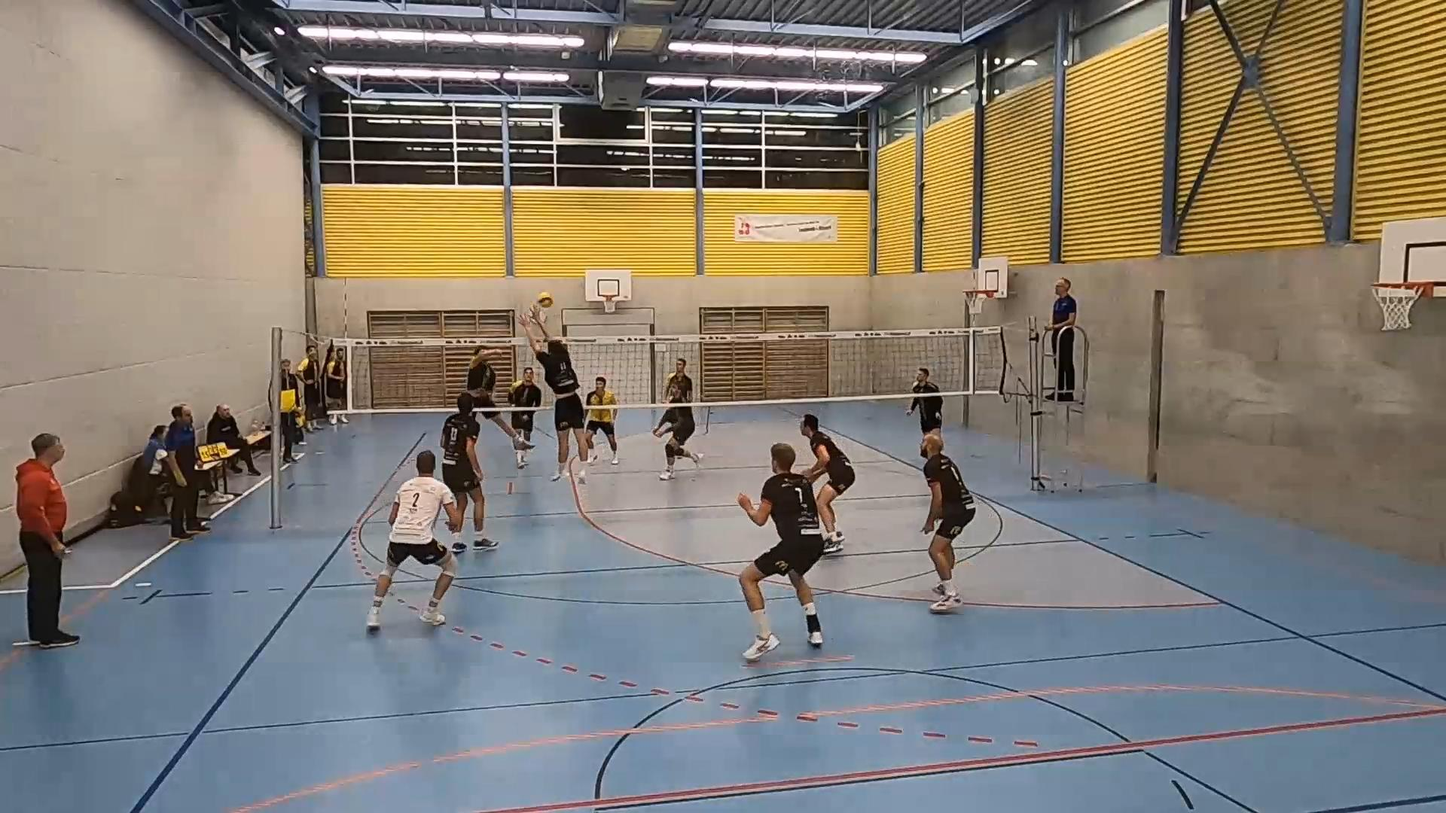attacco: (447, 331, 534, 466)
muro: (515, 311, 588, 471)
